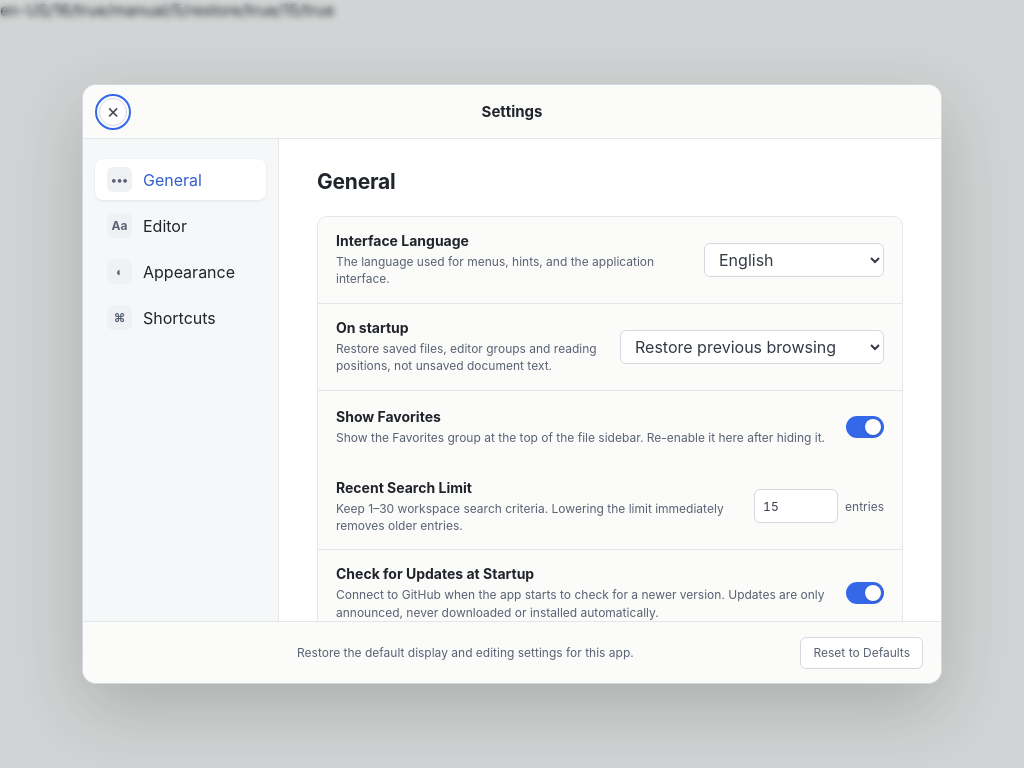
Test: SettingsDialog › offers localized startup behavior in en-US
Expected: the text "Show the Favorites group at the top of the file sidebar. Re-enable it here after hiding it." is shown, [336,430,825,445]
Expected: the text "Connect to GitHub when the app starts to check for a newer version. Updates are only announced, never downloaded or inst" is shown, [336,587,824,620]
Select "Open an empty window" in the dropdown labelled "On startup". click: [752, 347]
box: [620,330,884,364]
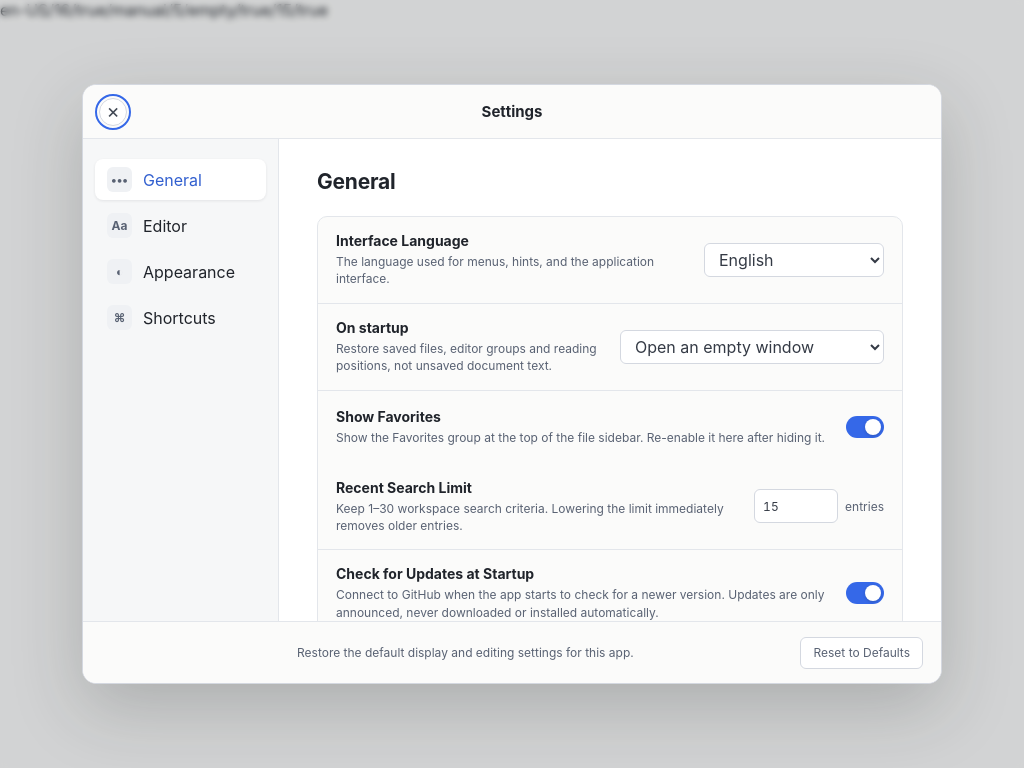
Expected: the text named "settings-summary" shows "/empty", [0,0,328,20]
Click the checkbox labelled "Show Favorites". click: [388, 416]
box: [318,390,902,464]
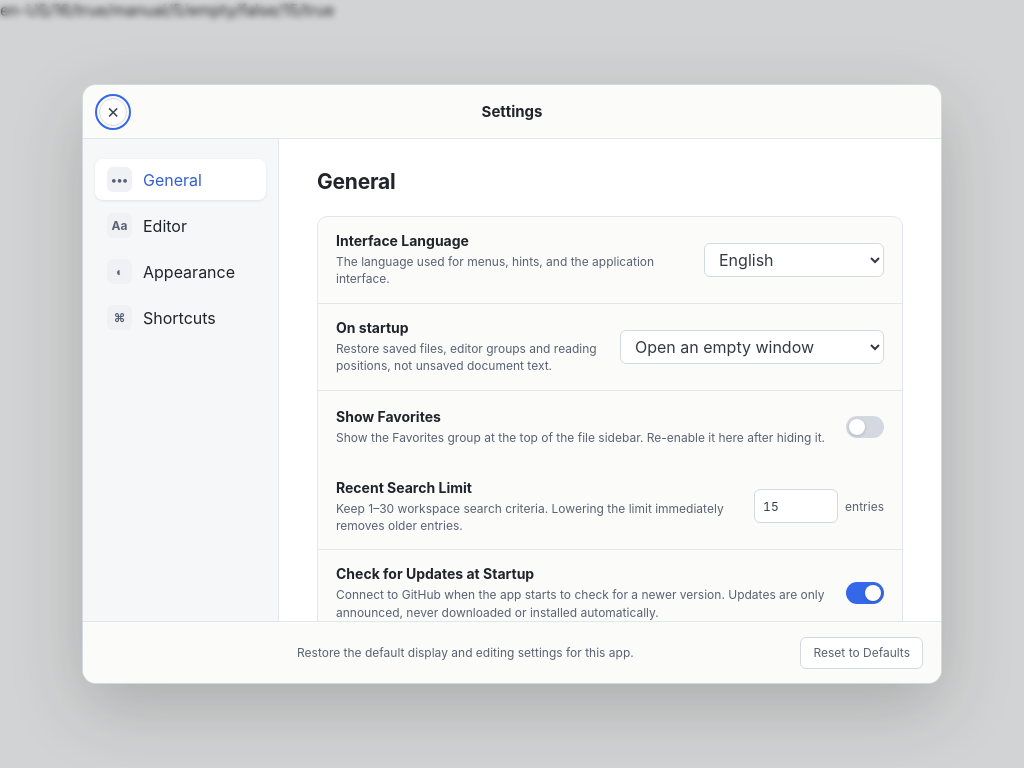
Expected: the checkbox labelled "Show Favorites" is not checked, [318,390,902,464]
Replace the text in the number field labelled "Recent Search Limit" with "18". click: [796, 506]
box: [754,490,838,524]
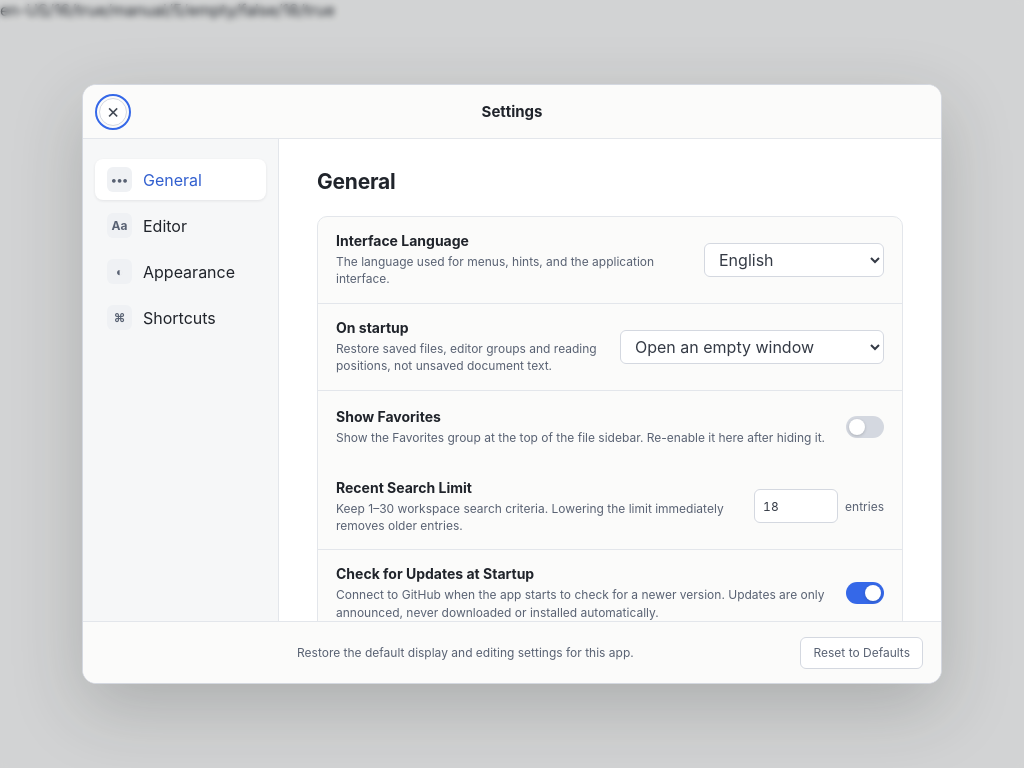
Expected: the checkbox labelled "Check for Updates at Startup" is checked, [318,549,902,621]
Click the checkbox labelled "Check for Updates at Startup". click: [610, 593]
box: [318,549,902,636]
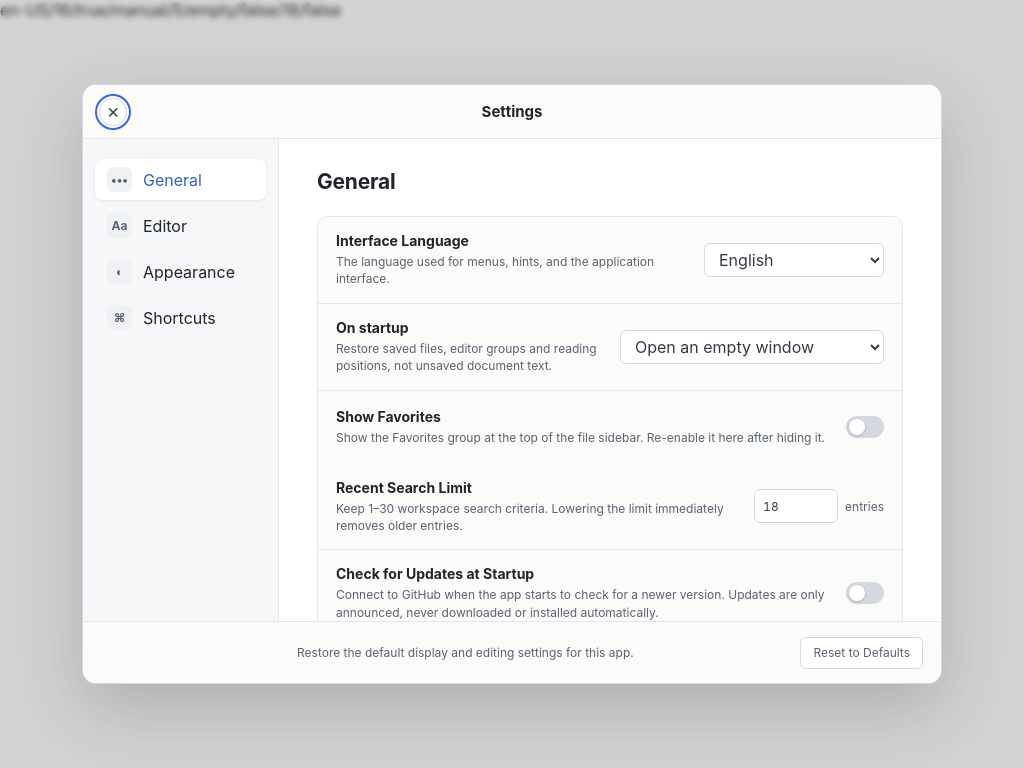
Expected: the checkbox labelled "Check for Updates at Startup" is not checked, [318,549,902,621]
Expected: the text named "settings-summary" shows "/empty/false/18/false", [0,0,341,20]
